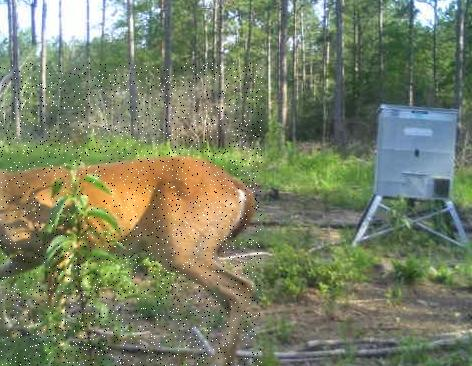Deer: (0, 63, 262, 366)
